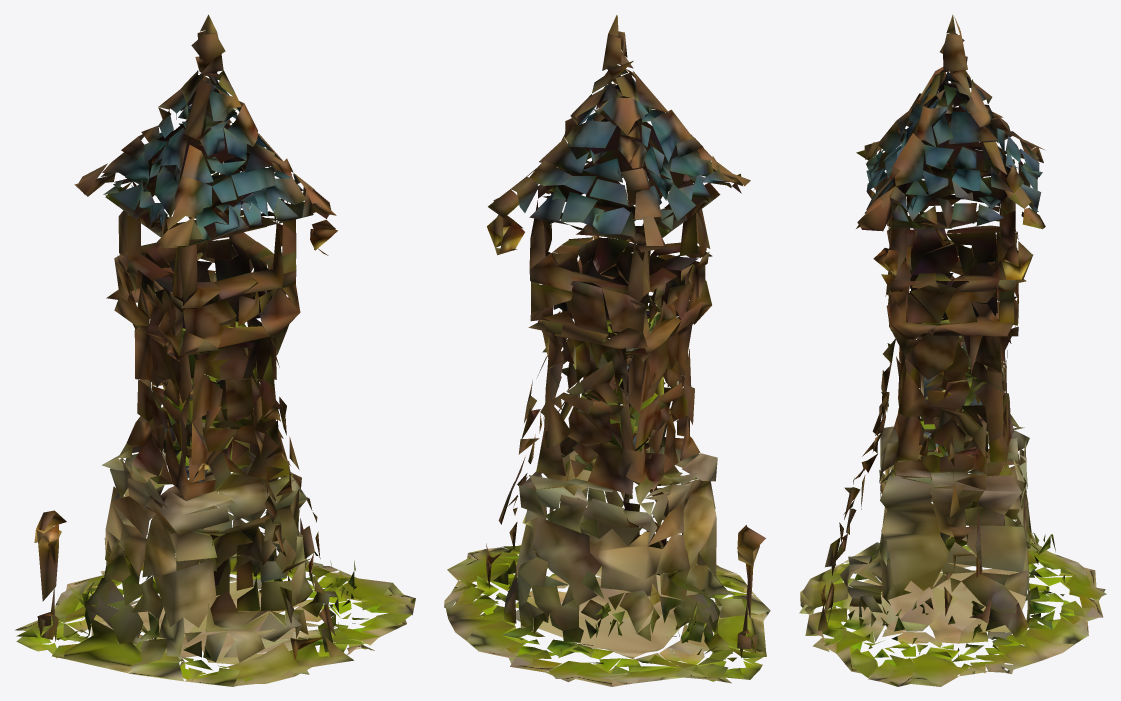
The model's file is Watchtower_T1_town.glb.
The picture shows the model from 3 angles, left to right: view 1: azimuth 30°, elevation 25°; view 2: azimuth 150°, elevation 25°; view 3: azimuth 270°, elevation 25°; orthographic projection. The views are drawn at different scales.
Parts seen in each view (by area): view 1: Watchtower_T1; view 2: Watchtower_T1; view 3: Watchtower_T1.
Boxes of the visible parts, left/top/right/bottom form: Watchtower_T1: left=15, top=14, right=415, bottom=686; Watchtower_T1: left=444, top=15, right=770, bottom=686; Watchtower_T1: left=799, top=14, right=1106, bottom=686.
Bounding box in the file's own units: 1.12 × 1.92 × 0.9015.
1 material, 1 textured.
